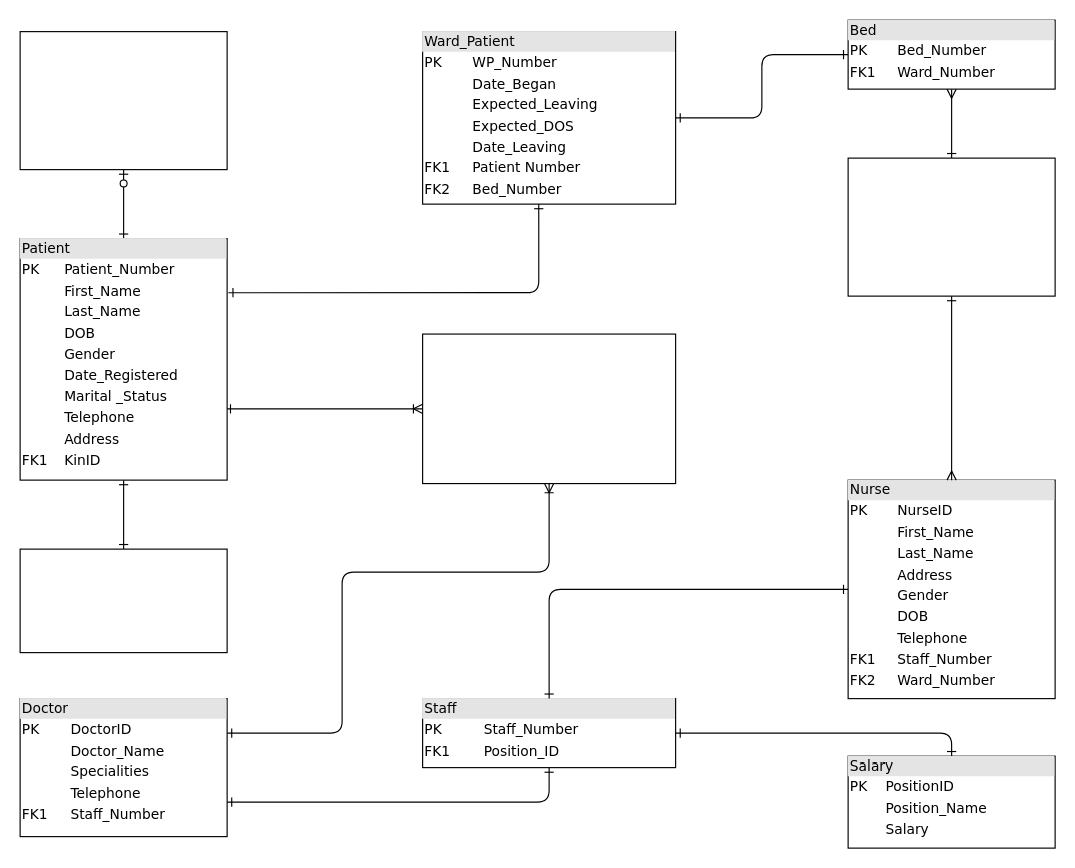
Some shapes in this 1075 by 868 pixel diagram are drawn without their labels. The centre of each missing label's shape, as x and y in pixels:
"Appointment PK Appointment_Number Time Date Room FK1 Doctor_ID FK2 Patient_ID" goes at [548,408].
"Kin PK KinID Full_Name Address Telephone Relationship" goes at [123,100].
"Out_Patient PK OP_Number Date Time FK1 Patient_Number" goes at [123,600].
"Ward PK Ward_Number Name Gender Bed_Quantity Telephone" goes at [951,226].
